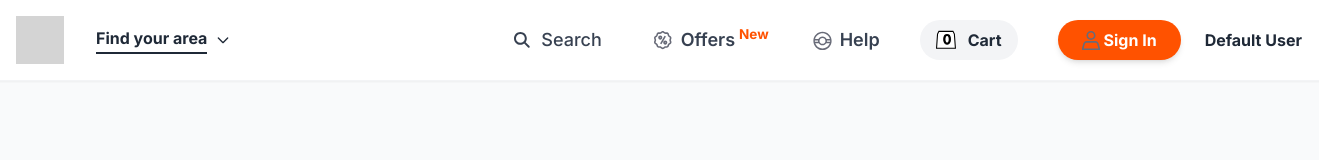
Test: should show the logout button on click login button
The width and height of the screenshot is (1319, 160).
Click the button "Sign In" at coordinates (1119, 40), box [1058,20,1181,60]
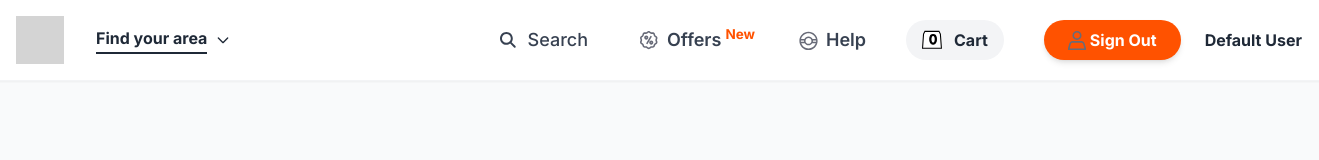
Result: the button "Sign Out" is shown at [1044,20,1181,60]
